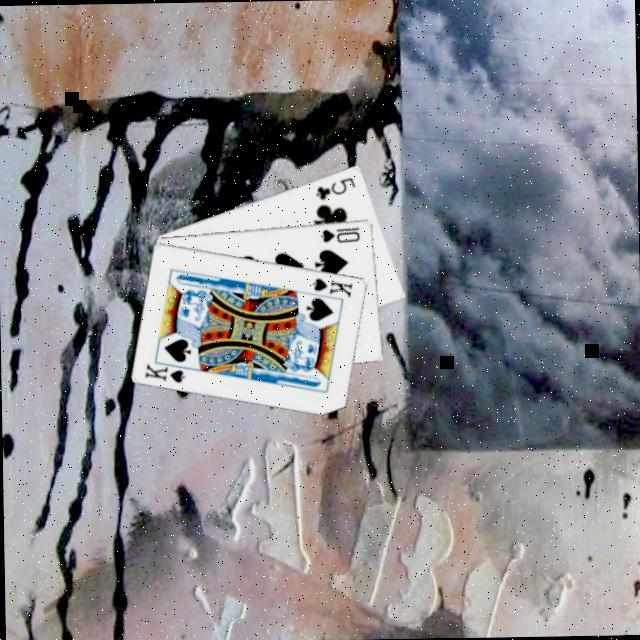10S: (316, 222, 362, 244)
5C: (311, 172, 357, 201)
KS: (140, 355, 193, 386), (308, 272, 355, 299)
